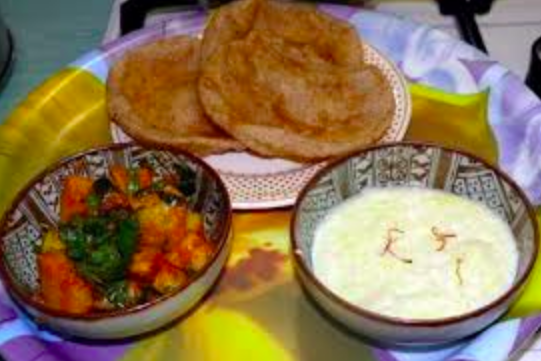curry: (38, 160, 223, 316)
rice: (311, 189, 511, 328)
roti: (202, 5, 400, 173), (102, 41, 238, 152)
